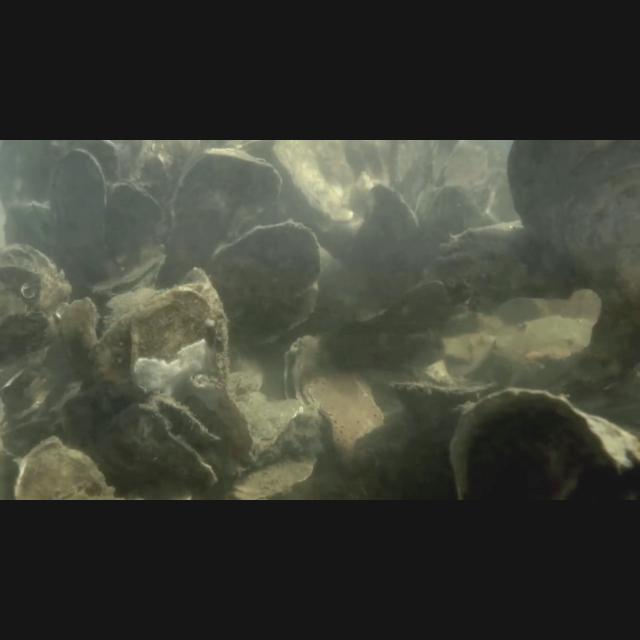Oyster-Closed: (126, 263, 256, 464), (444, 386, 639, 500), (0, 242, 73, 451), (168, 147, 286, 275), (204, 218, 323, 320), (47, 147, 111, 279), (349, 183, 432, 275), (12, 434, 121, 500), (269, 143, 356, 225), (110, 175, 165, 254), (390, 142, 414, 187)
Oyster-Open: (277, 329, 387, 476), (135, 394, 229, 492), (91, 254, 164, 299)
